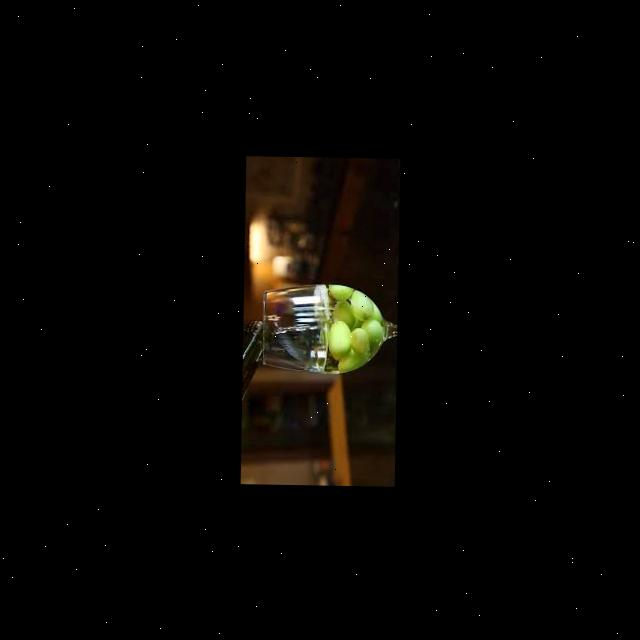grape: (323, 282, 385, 372)
